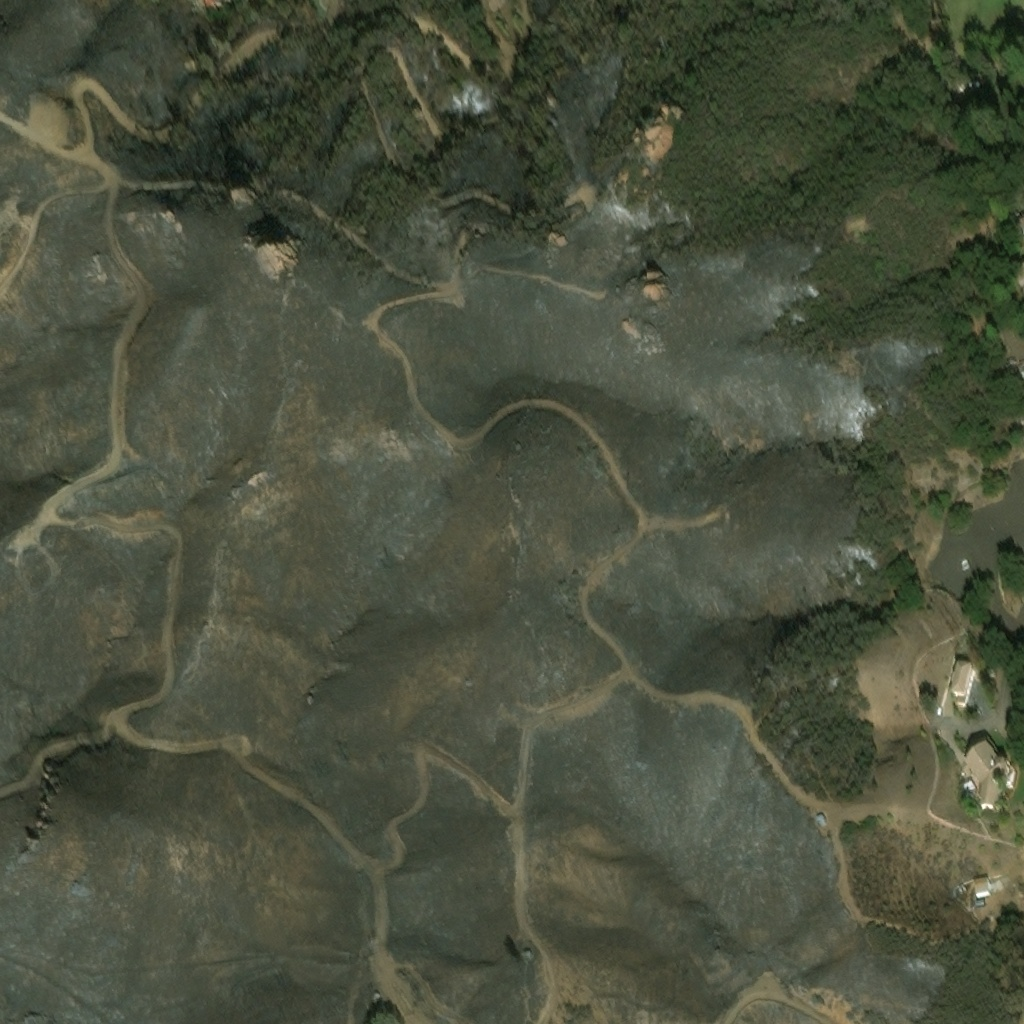0 no-damage: (961, 734, 1008, 806), (998, 218, 1023, 258), (947, 656, 973, 691), (1000, 326, 1023, 358), (974, 875, 989, 893), (959, 775, 974, 790), (963, 76, 979, 85), (934, 26, 946, 38), (814, 812, 826, 823), (973, 896, 983, 902)
3 destroyed: (522, 948, 537, 966), (368, 986, 379, 997)
